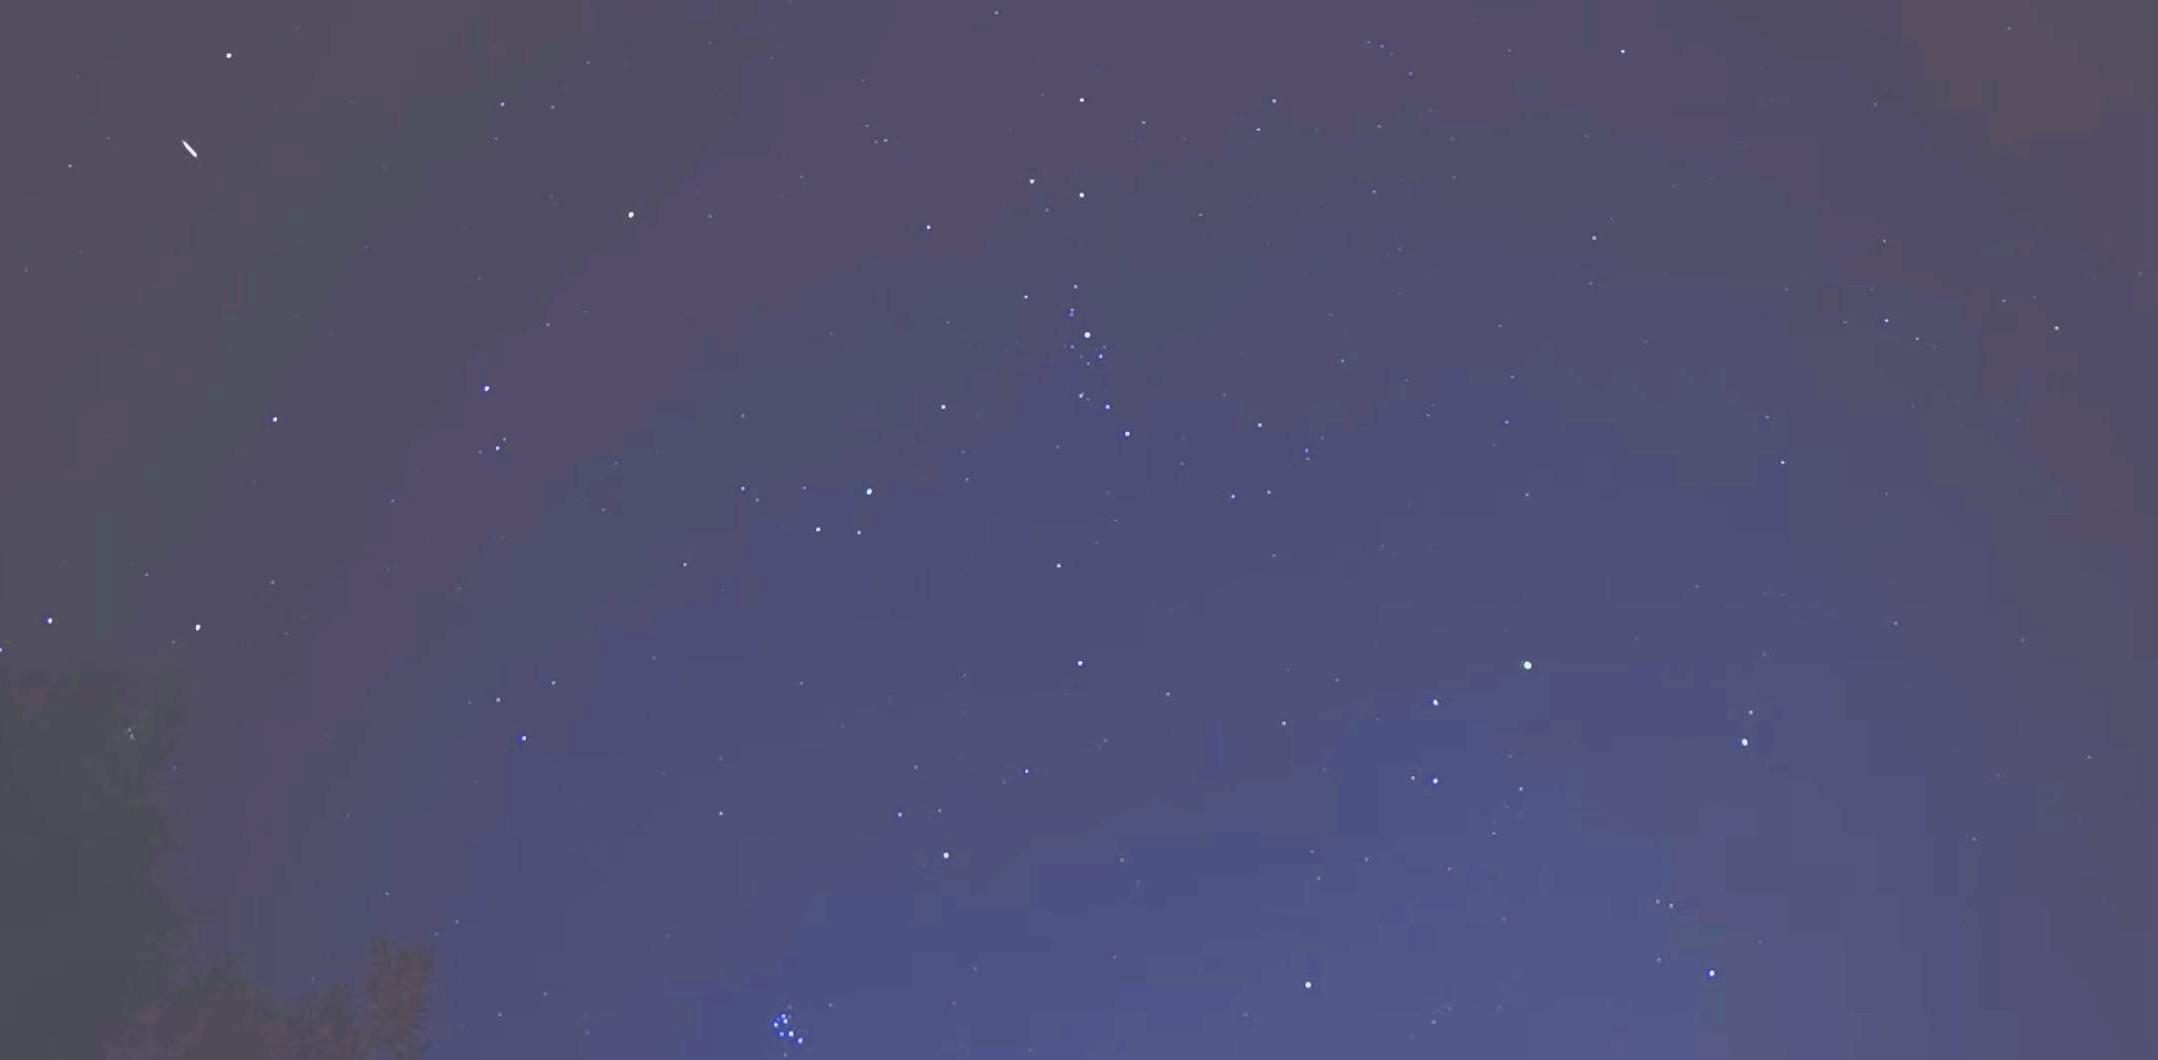meteorite: (150, 125, 227, 175)
